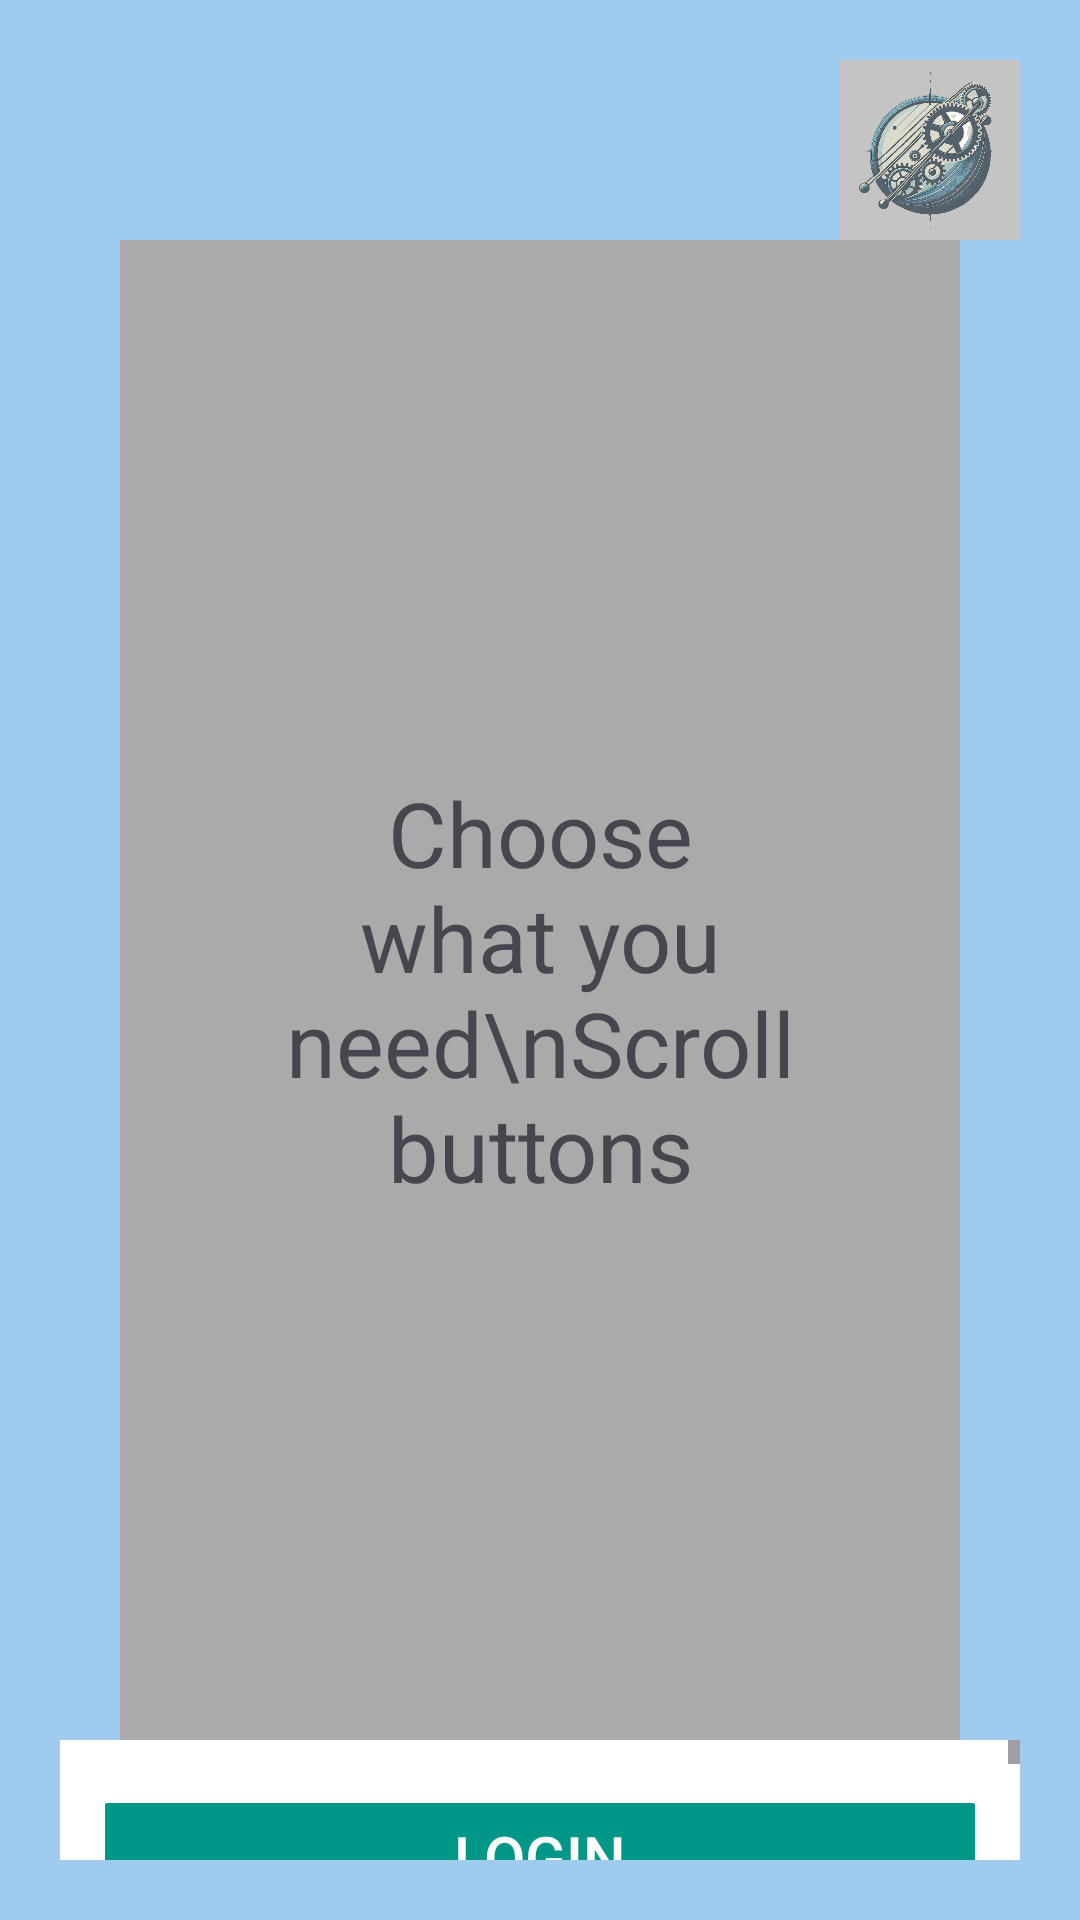

Icon bounding boxes for this 1080×1920 phone screenshot, format [x1=x1, y1=y1, x2=x2, y2=y2]:
mechanics: [x1=840, y1=60, x2=1020, y2=240]
